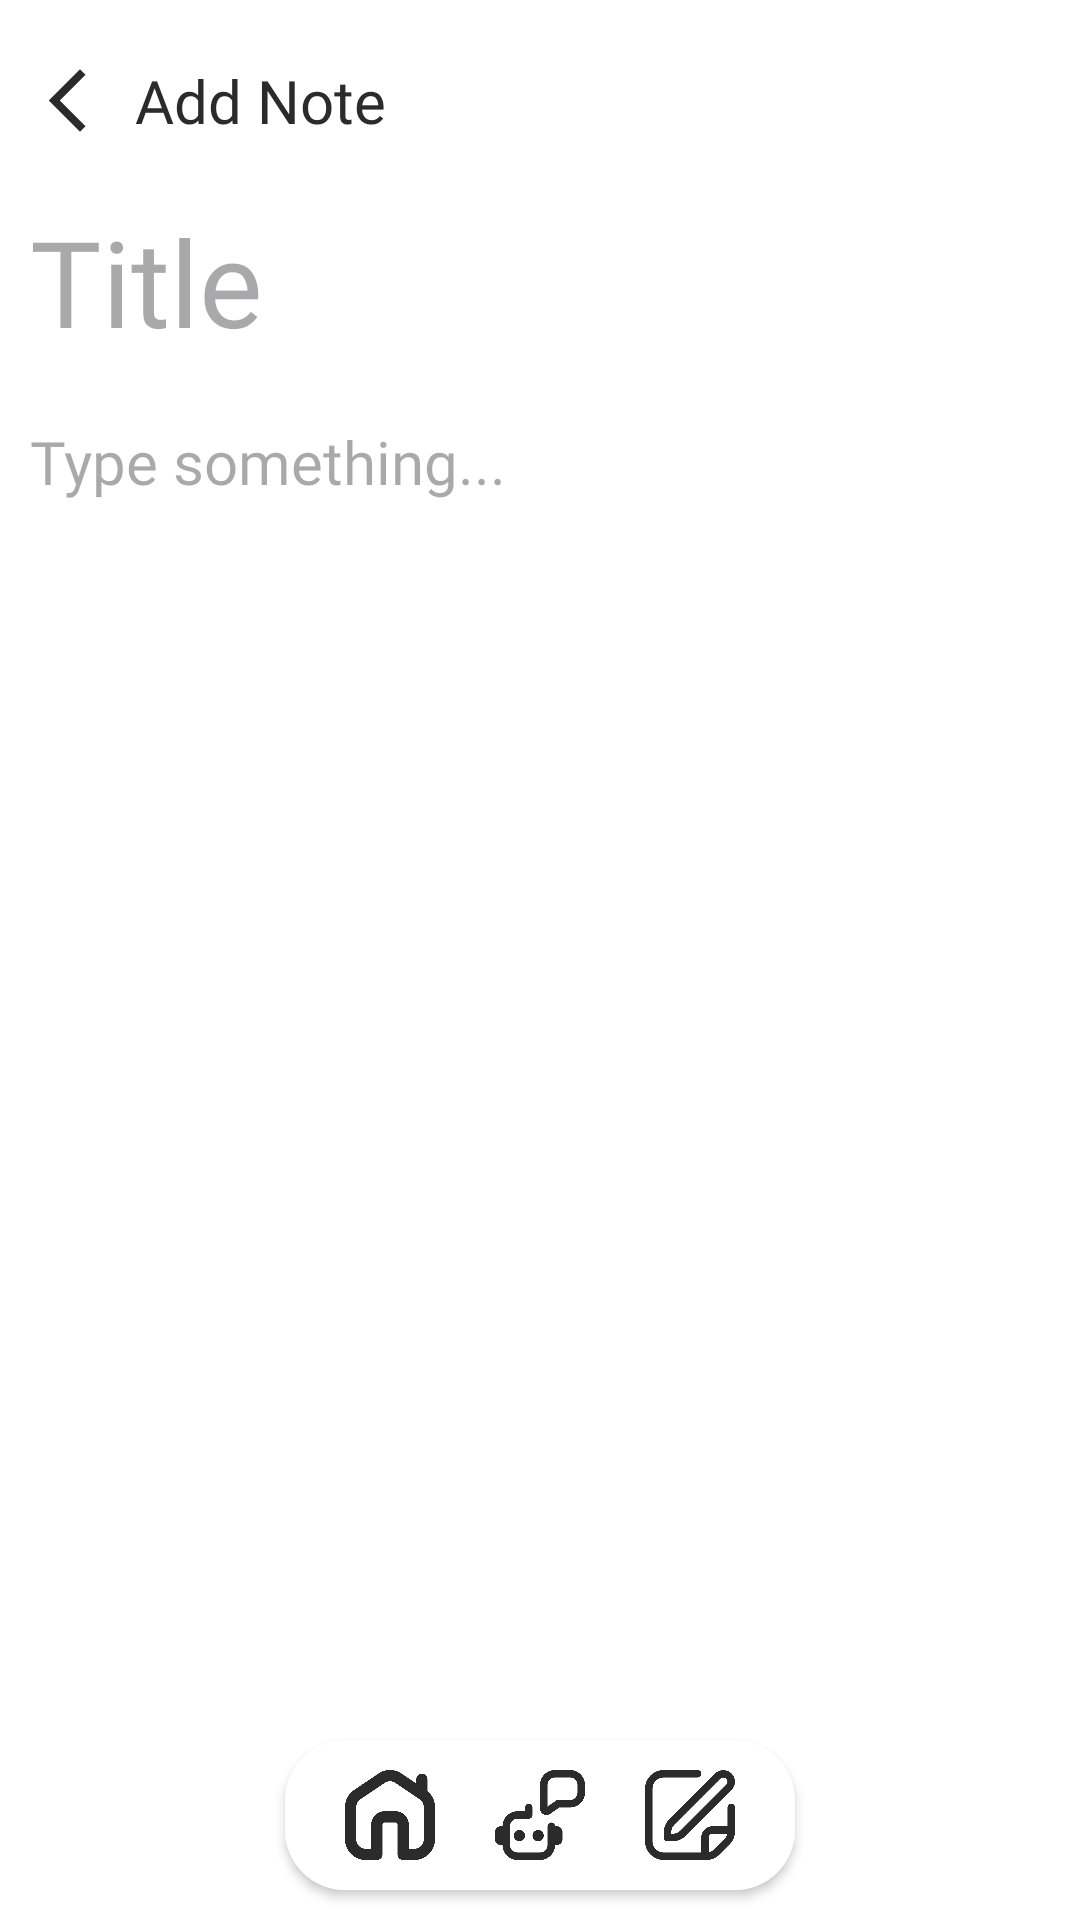

Icons on this 1080px x 1920px Android screen, each with the point to tap as [x,y]:
arrow back: [67,100]
chatbot: [540,1815]
edit: [690,1815]
home: [390,1815]
